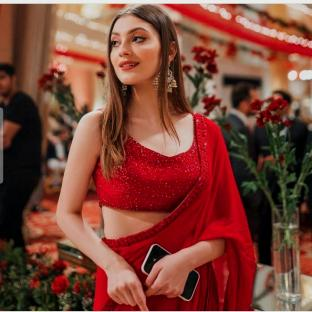Human: (57, 4, 256, 310)
